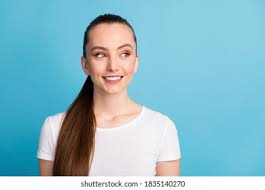person: (80, 13, 141, 95)
